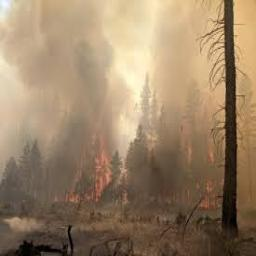Heavy smoke: (2, 1, 127, 148), (148, 1, 256, 144)
Medium fire: (57, 125, 130, 206)
Small fire: (183, 147, 223, 209)
